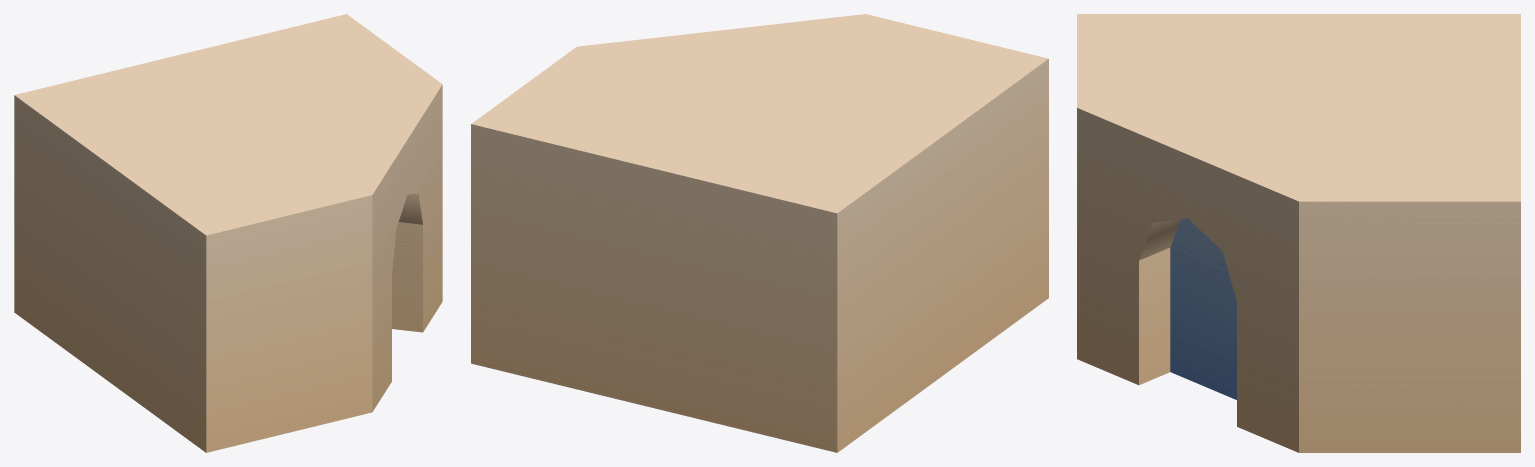
The picture shows the model from 3 angles, left to right: view 1: azimuth 30°, elevation 25°; view 2: azimuth 150°, elevation 25°; view 3: azimuth 270°, elevation 25°; orthographic projection. The views are drawn at different scales.
Parts seen in each view (by area): view 1: building-corner-window-top-round; view 2: building-corner-window-top-round; view 3: building-corner-window-top-round.
Part boxes in pixels (x1=…): building-corner-window-top-round: x1=14, y1=14, x2=442, y2=452; building-corner-window-top-round: x1=471, y1=14, x2=1048, y2=452; building-corner-window-top-round: x1=1077, y1=14, x2=1520, y2=452.
Size of the model in its own units: 1 by 0.625 by 1.
Materials: 1 (1 with a texture image).
